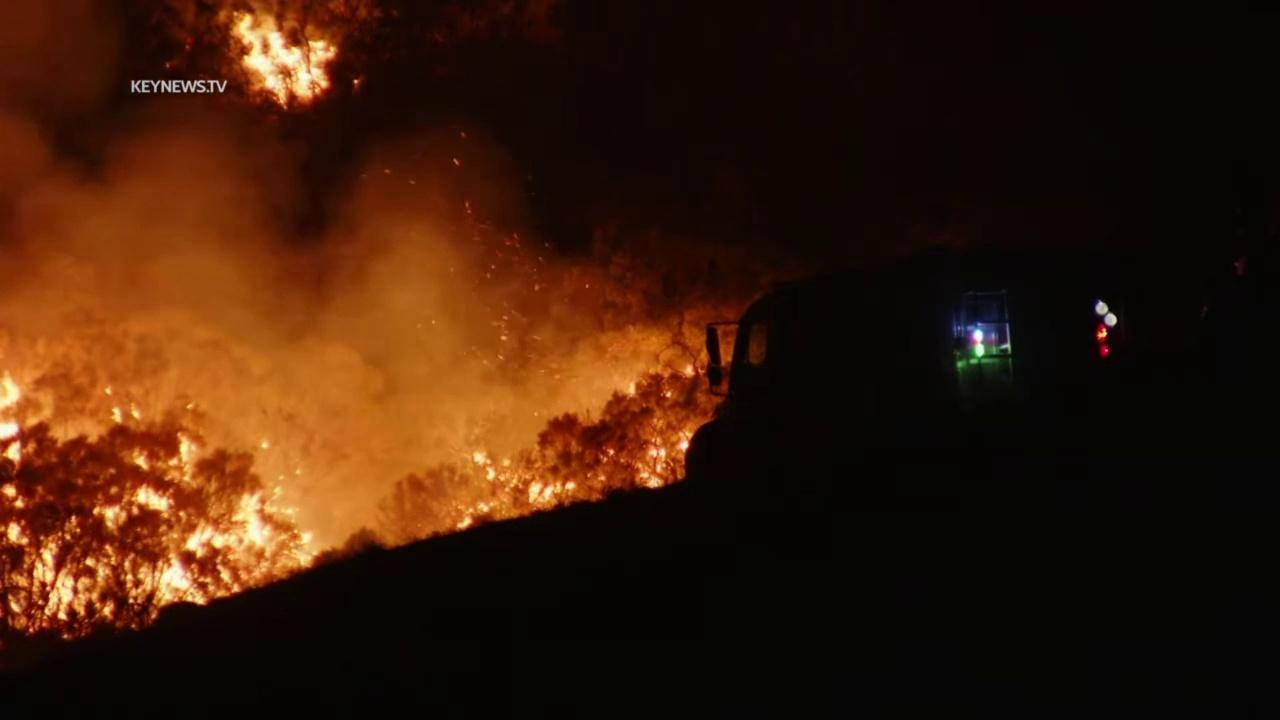fire: (0, 367, 321, 642), (224, 9, 343, 113), (451, 447, 579, 535), (631, 425, 698, 492), (680, 362, 709, 384), (622, 379, 642, 401)
smoke: (0, 0, 642, 547)
